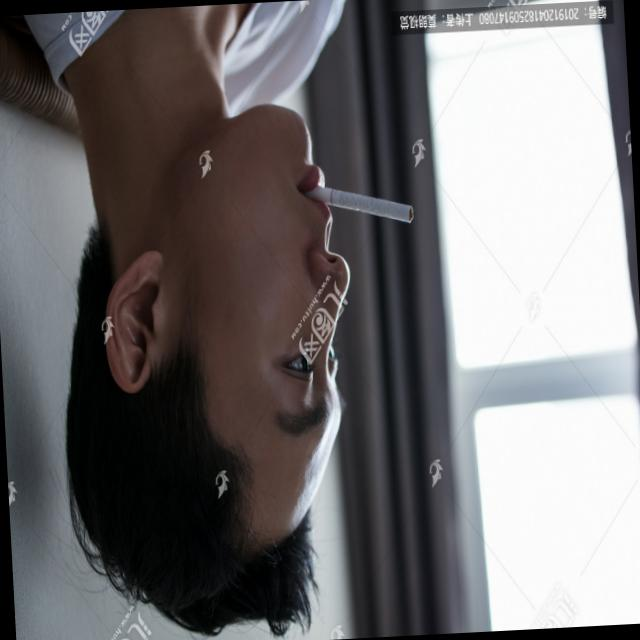cigarette: (312, 176, 417, 232)
